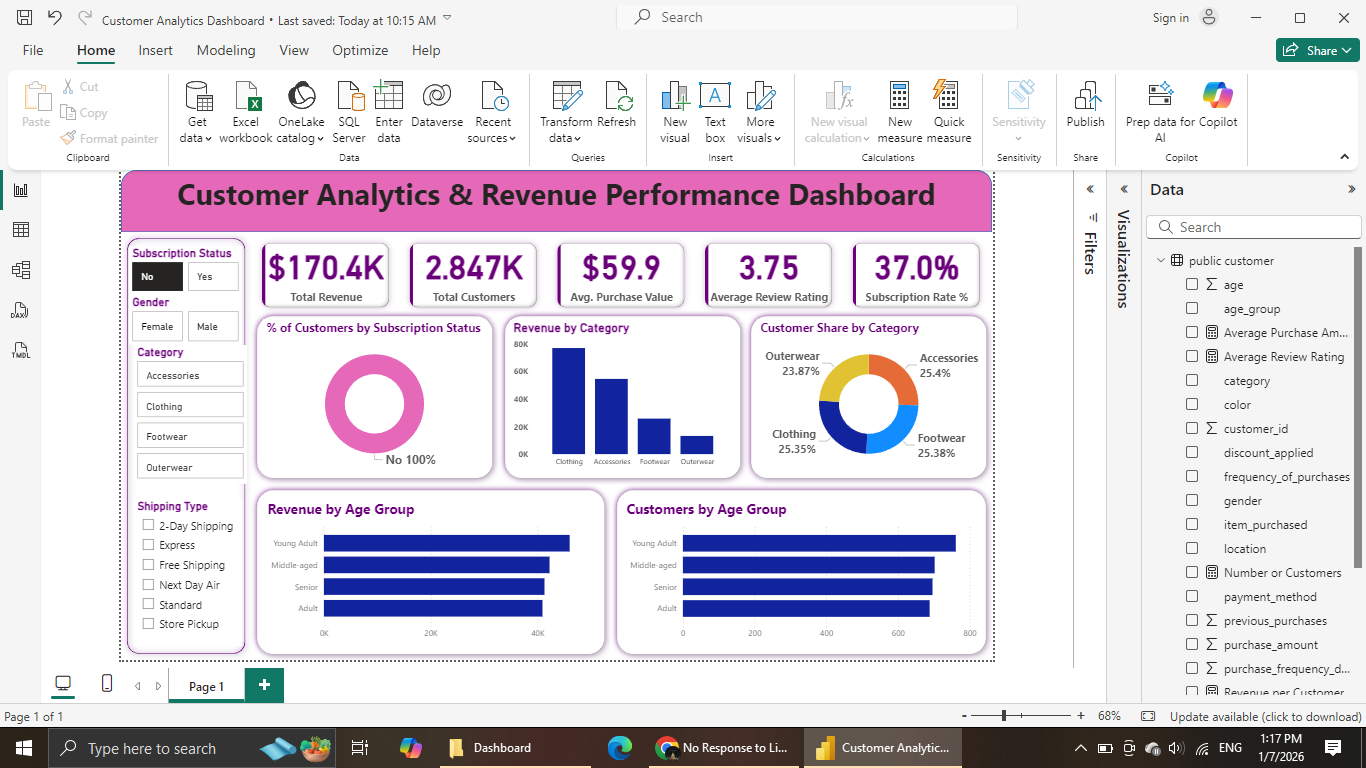

This screenshot's page, from the dashboard's own definition file:
{"tool":"powerbi","page":{"name":"Page 1","canvas":[1280,720],"ordinal":0},"visuals":[{"type":"cardVisual","fields":{"Data":["public customer.Total Revenue","public customer.Number or Customers","public customer.Average Purchase Amount","public customer.Average Review Rating","public customer.Subscription Rate %"]},"box":[191,91.1,1088.8,127.8],"z":0},{"type":"shape","box":[0,0,1280,91.3],"z":1000},{"type":"textbox","box":[0,0,1279.8,77.9],"z":2000},{"type":"shape","box":[191.6,205.1,363.8,256],"z":3000},{"type":"donutChart","title":"% of Customers by Subscription Status","fields":{"Y":["CountNonNull(public customer.customer_id)"],"Category":["public customer.subscription_status"]},"box":[208.7,218.9,327.7,226.3],"z":4000},{"type":"shape","box":[191.6,461.1,528.5,259],"z":5000},{"type":"shape","box":[916.2,205.1,363.8,256],"z":6000},{"type":"shape","box":[555.4,205.1,363.8,256],"z":7000},{"type":"shape","box":[720.1,461.1,559.9,259],"z":8000},{"type":"clusteredColumnChart","title":"Revenue by Category","fields":{"Y":["Sum(public customer.purchase_amount)"],"Category":["public customer.category"]},"box":[571.9,220.1,330.9,226.1],"z":9000},{"type":"donutChart","title":"Customer Share by Category","fields":{"Category":["public customer.category"],"Y":["public customer.Revenue per Customer"]},"box":[935,219.4,328.3,227],"z":10000},{"type":"shape","box":[0,91.3,191.6,628.8],"z":11000},{"type":"advancedSlicerVisual","fields":{"Values":["public customer.subscription_status"]},"box":[12,112.3,166.2,71.9],"z":12000},{"type":"advancedSlicerVisual","fields":{"Values":["public customer.gender"]},"box":[12,184.1,166.2,73.4],"z":13000},{"type":"advancedSlicerVisual","fields":{"Values":["public customer.category"]},"box":[19.1,257.1,166,204.2],"z":14000},{"type":"slicer","title":"Shipping Type","fields":{"Values":["public customer.shipping_type"]},"box":[19.5,483.6,158.7,215.6],"z":15000},{"type":"clusteredBarChart","title":"Revenue by Age Group","fields":{"Y":["Sum(public customer.purchase_amount)"],"Category":["public customer.age_group"]},"box":[209.6,483.6,495.5,215.6],"z":16000},{"type":"clusteredBarChart","title":"Customers by Age Group","fields":{"Y":["CountNonNull(public customer.customer_id)"],"Category":["public customer.age_group"]},"box":[737.6,483.4,524.6,216],"z":17000}]}

Visuals, with their boxes on the page's 1280x720 design canvas (x1, y1, x2, y2). These are canvas units, not pixel positions in the 1366x768 screenshot, which may show the page scaled, cropped or inside an application window:
cardVisual - public customer.Total Revenue x public customer.Number or Customers: l=191, t=91, r=1280, b=219
shape: l=0, t=0, r=1280, b=91
textbox: l=0, t=0, r=1280, b=78
shape: l=192, t=205, r=555, b=461
"% of Customers by Subscription Status" donutChart: l=209, t=219, r=536, b=445
shape: l=192, t=461, r=720, b=720
shape: l=916, t=205, r=1280, b=461
shape: l=555, t=205, r=919, b=461
shape: l=720, t=461, r=1280, b=720
"Revenue by Category" clusteredColumnChart: l=572, t=220, r=903, b=446
"Customer Share by Category" donutChart: l=935, t=219, r=1263, b=446
shape: l=0, t=91, r=192, b=720
advancedSlicerVisual - public customer.subscription_status: l=12, t=112, r=178, b=184
advancedSlicerVisual - public customer.gender: l=12, t=184, r=178, b=258
advancedSlicerVisual - public customer.category: l=19, t=257, r=185, b=461
"Shipping Type" slicer: l=20, t=484, r=178, b=699
"Revenue by Age Group" clusteredBarChart: l=210, t=484, r=705, b=699
"Customers by Age Group" clusteredBarChart: l=738, t=483, r=1262, b=699
